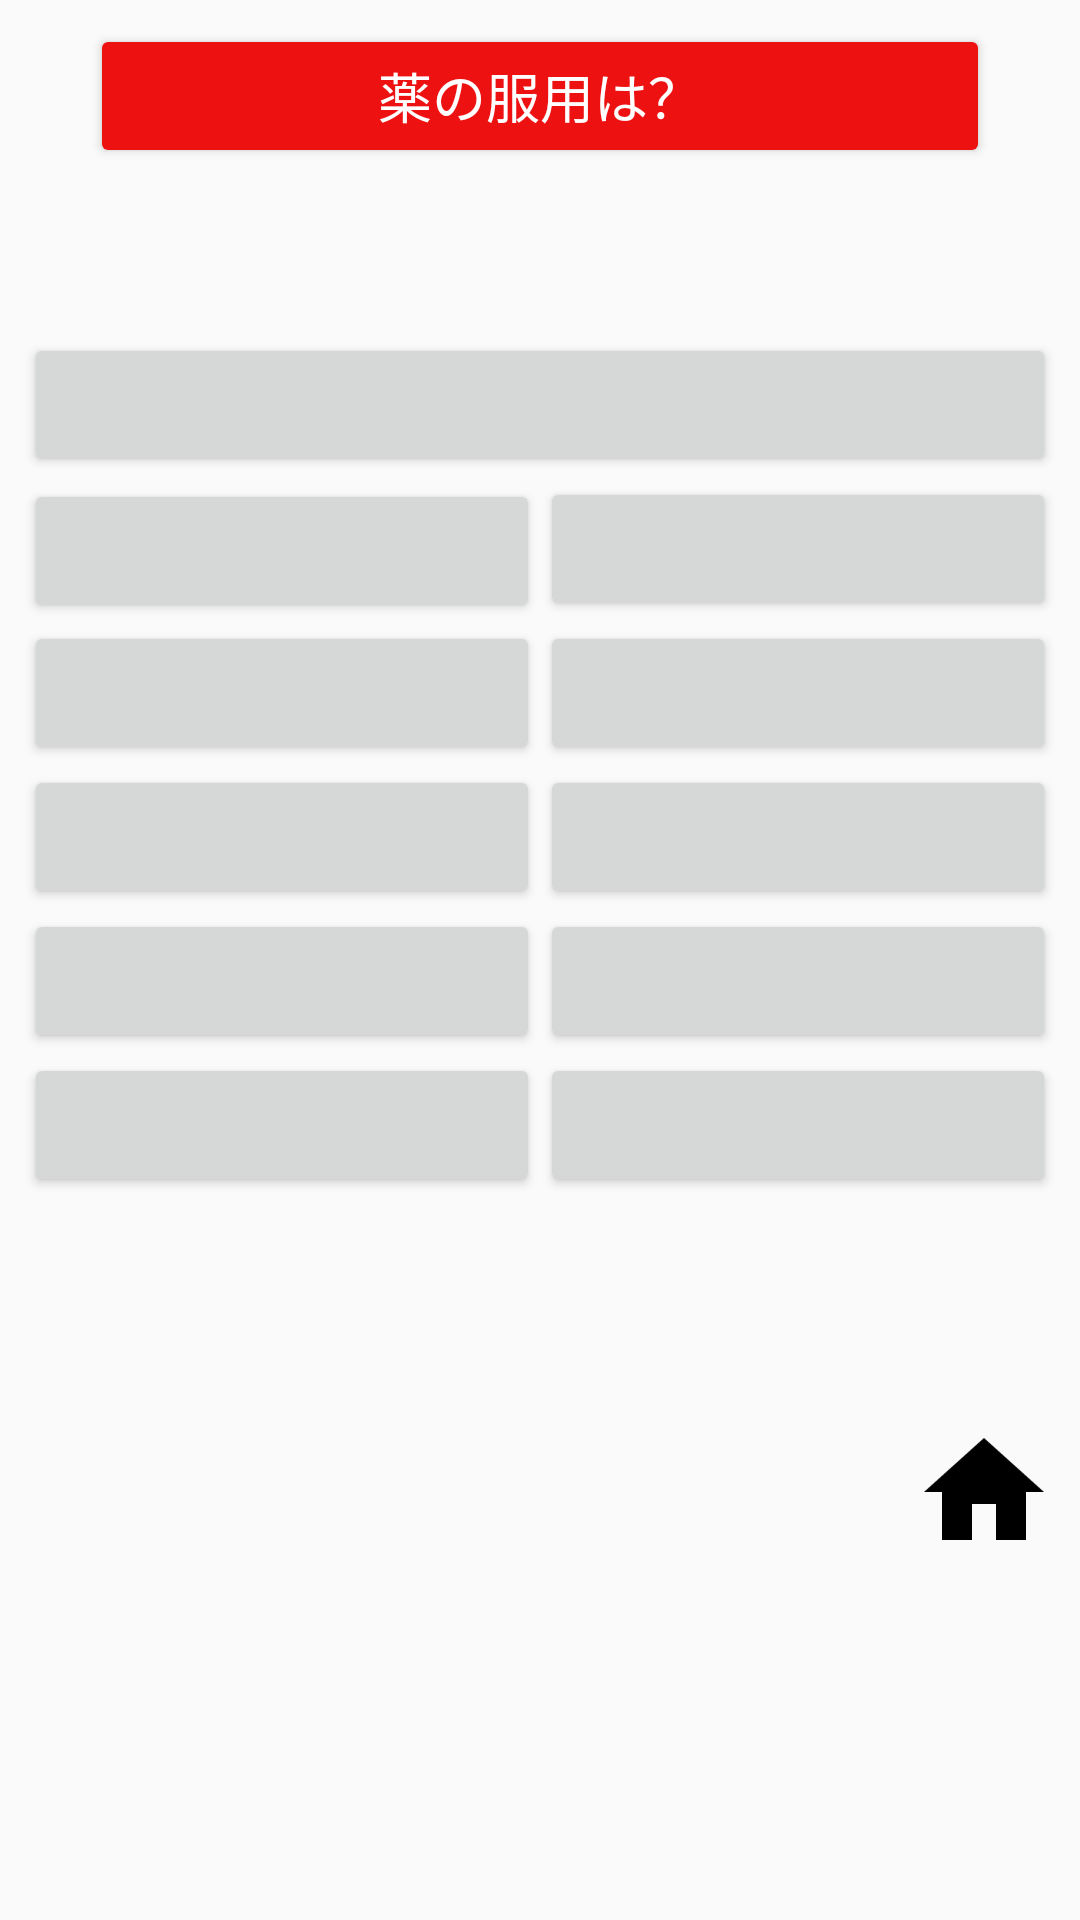

Screen size 1080*1920. Icon name, then its box in pixels as (x1, y1, x2, y2):
home: (924, 1438, 1044, 1540)
